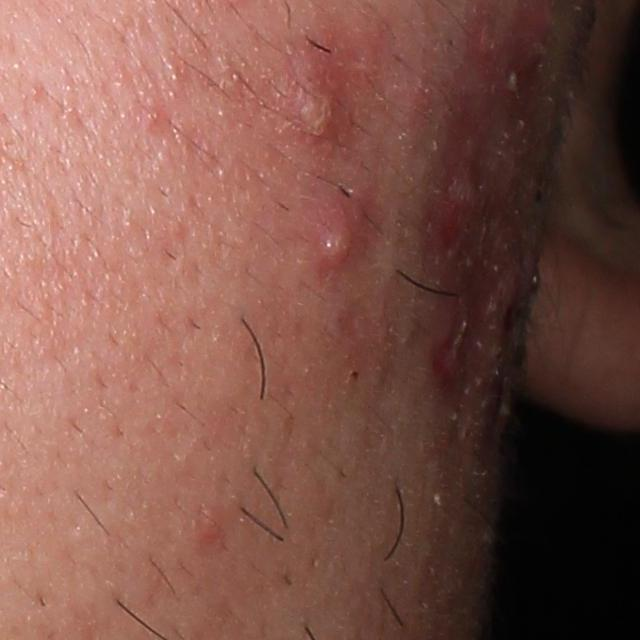papule: (190, 504, 227, 554)
